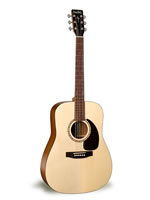guitar: (40, 9, 113, 193)
